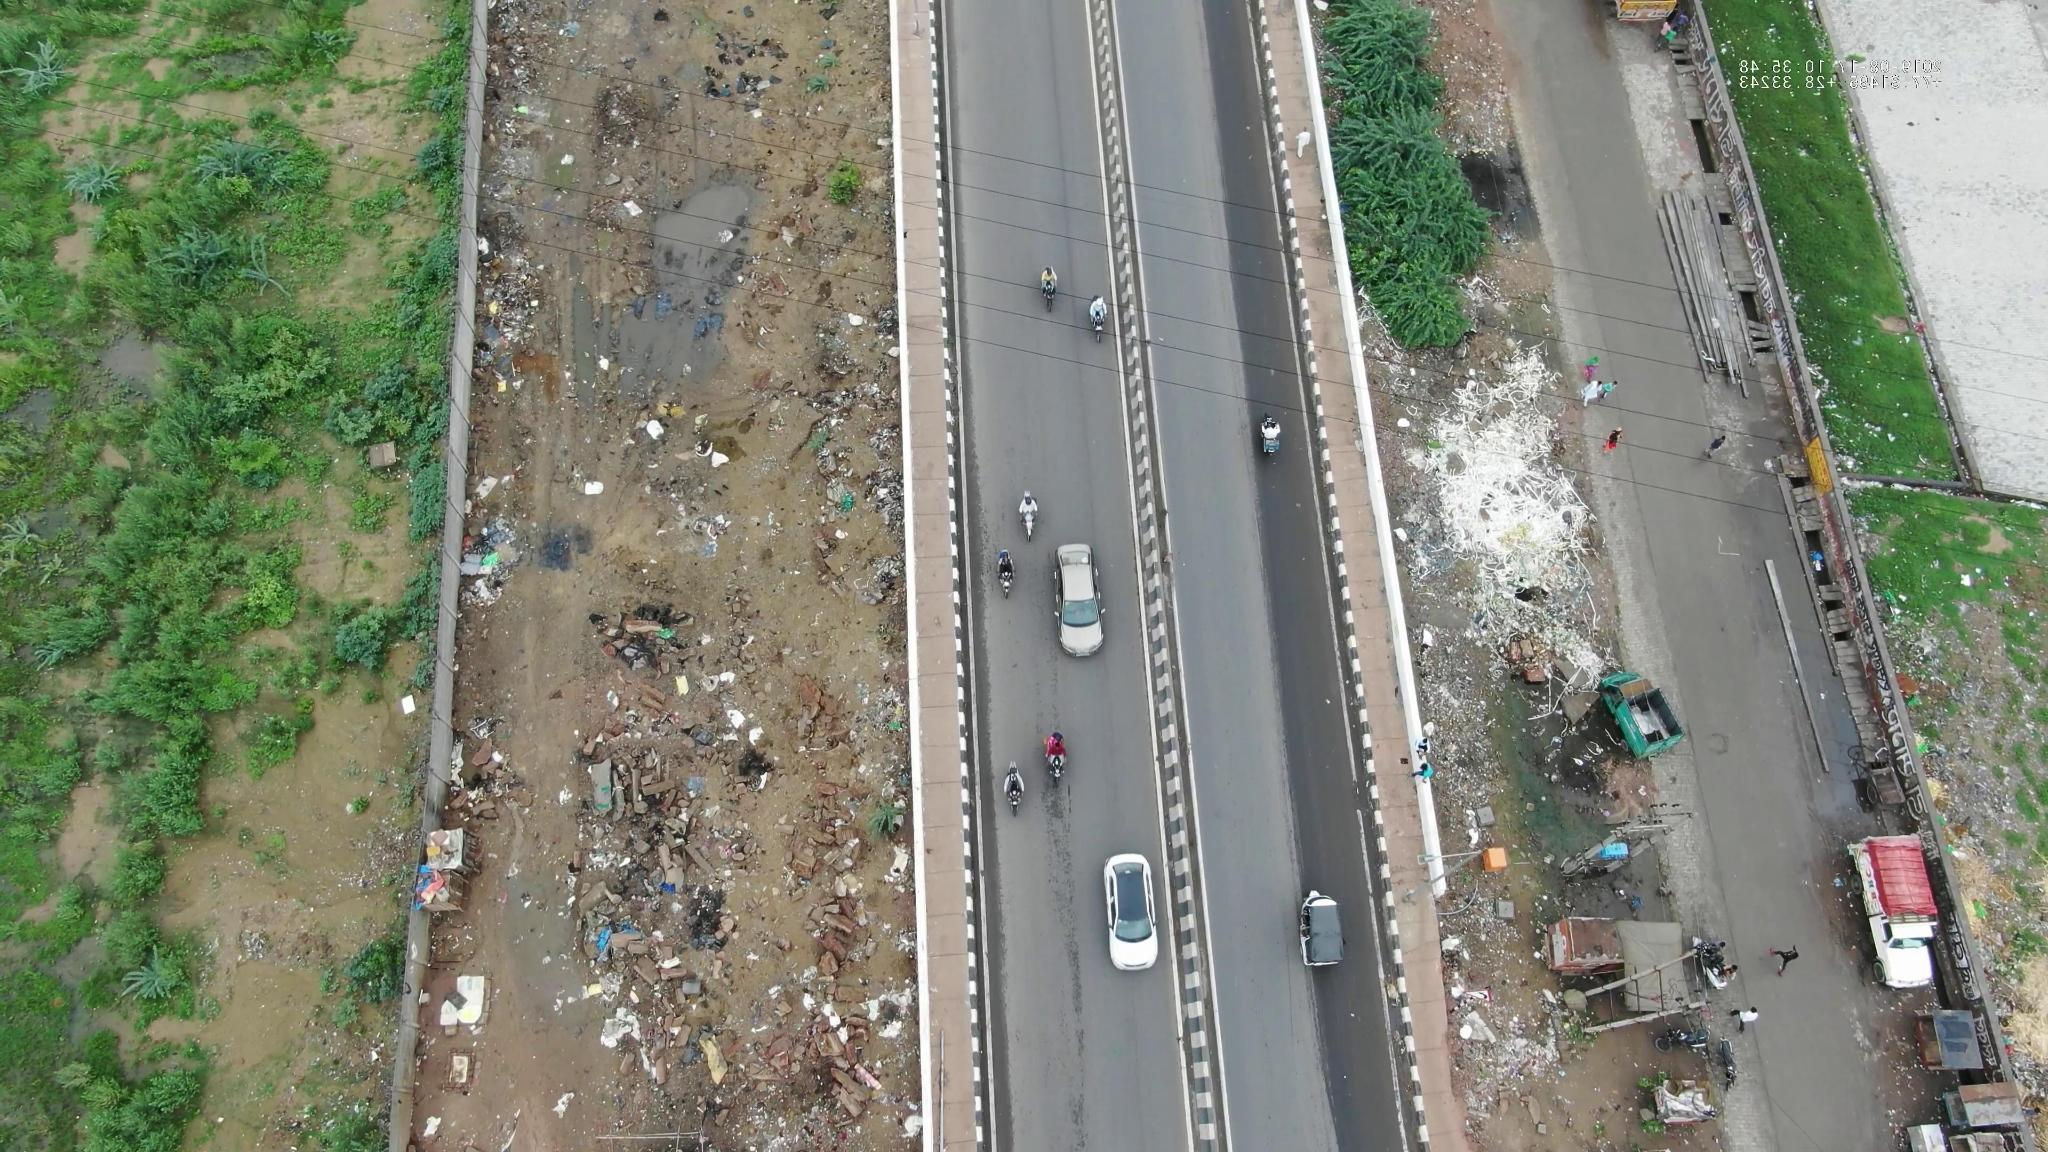Potholes: (1696, 722, 1769, 762)
Ravelling: (1039, 810, 1106, 1032)
Road_side_garbage: (1409, 369, 1633, 660)
Waterlogging: (1452, 136, 1557, 243)
